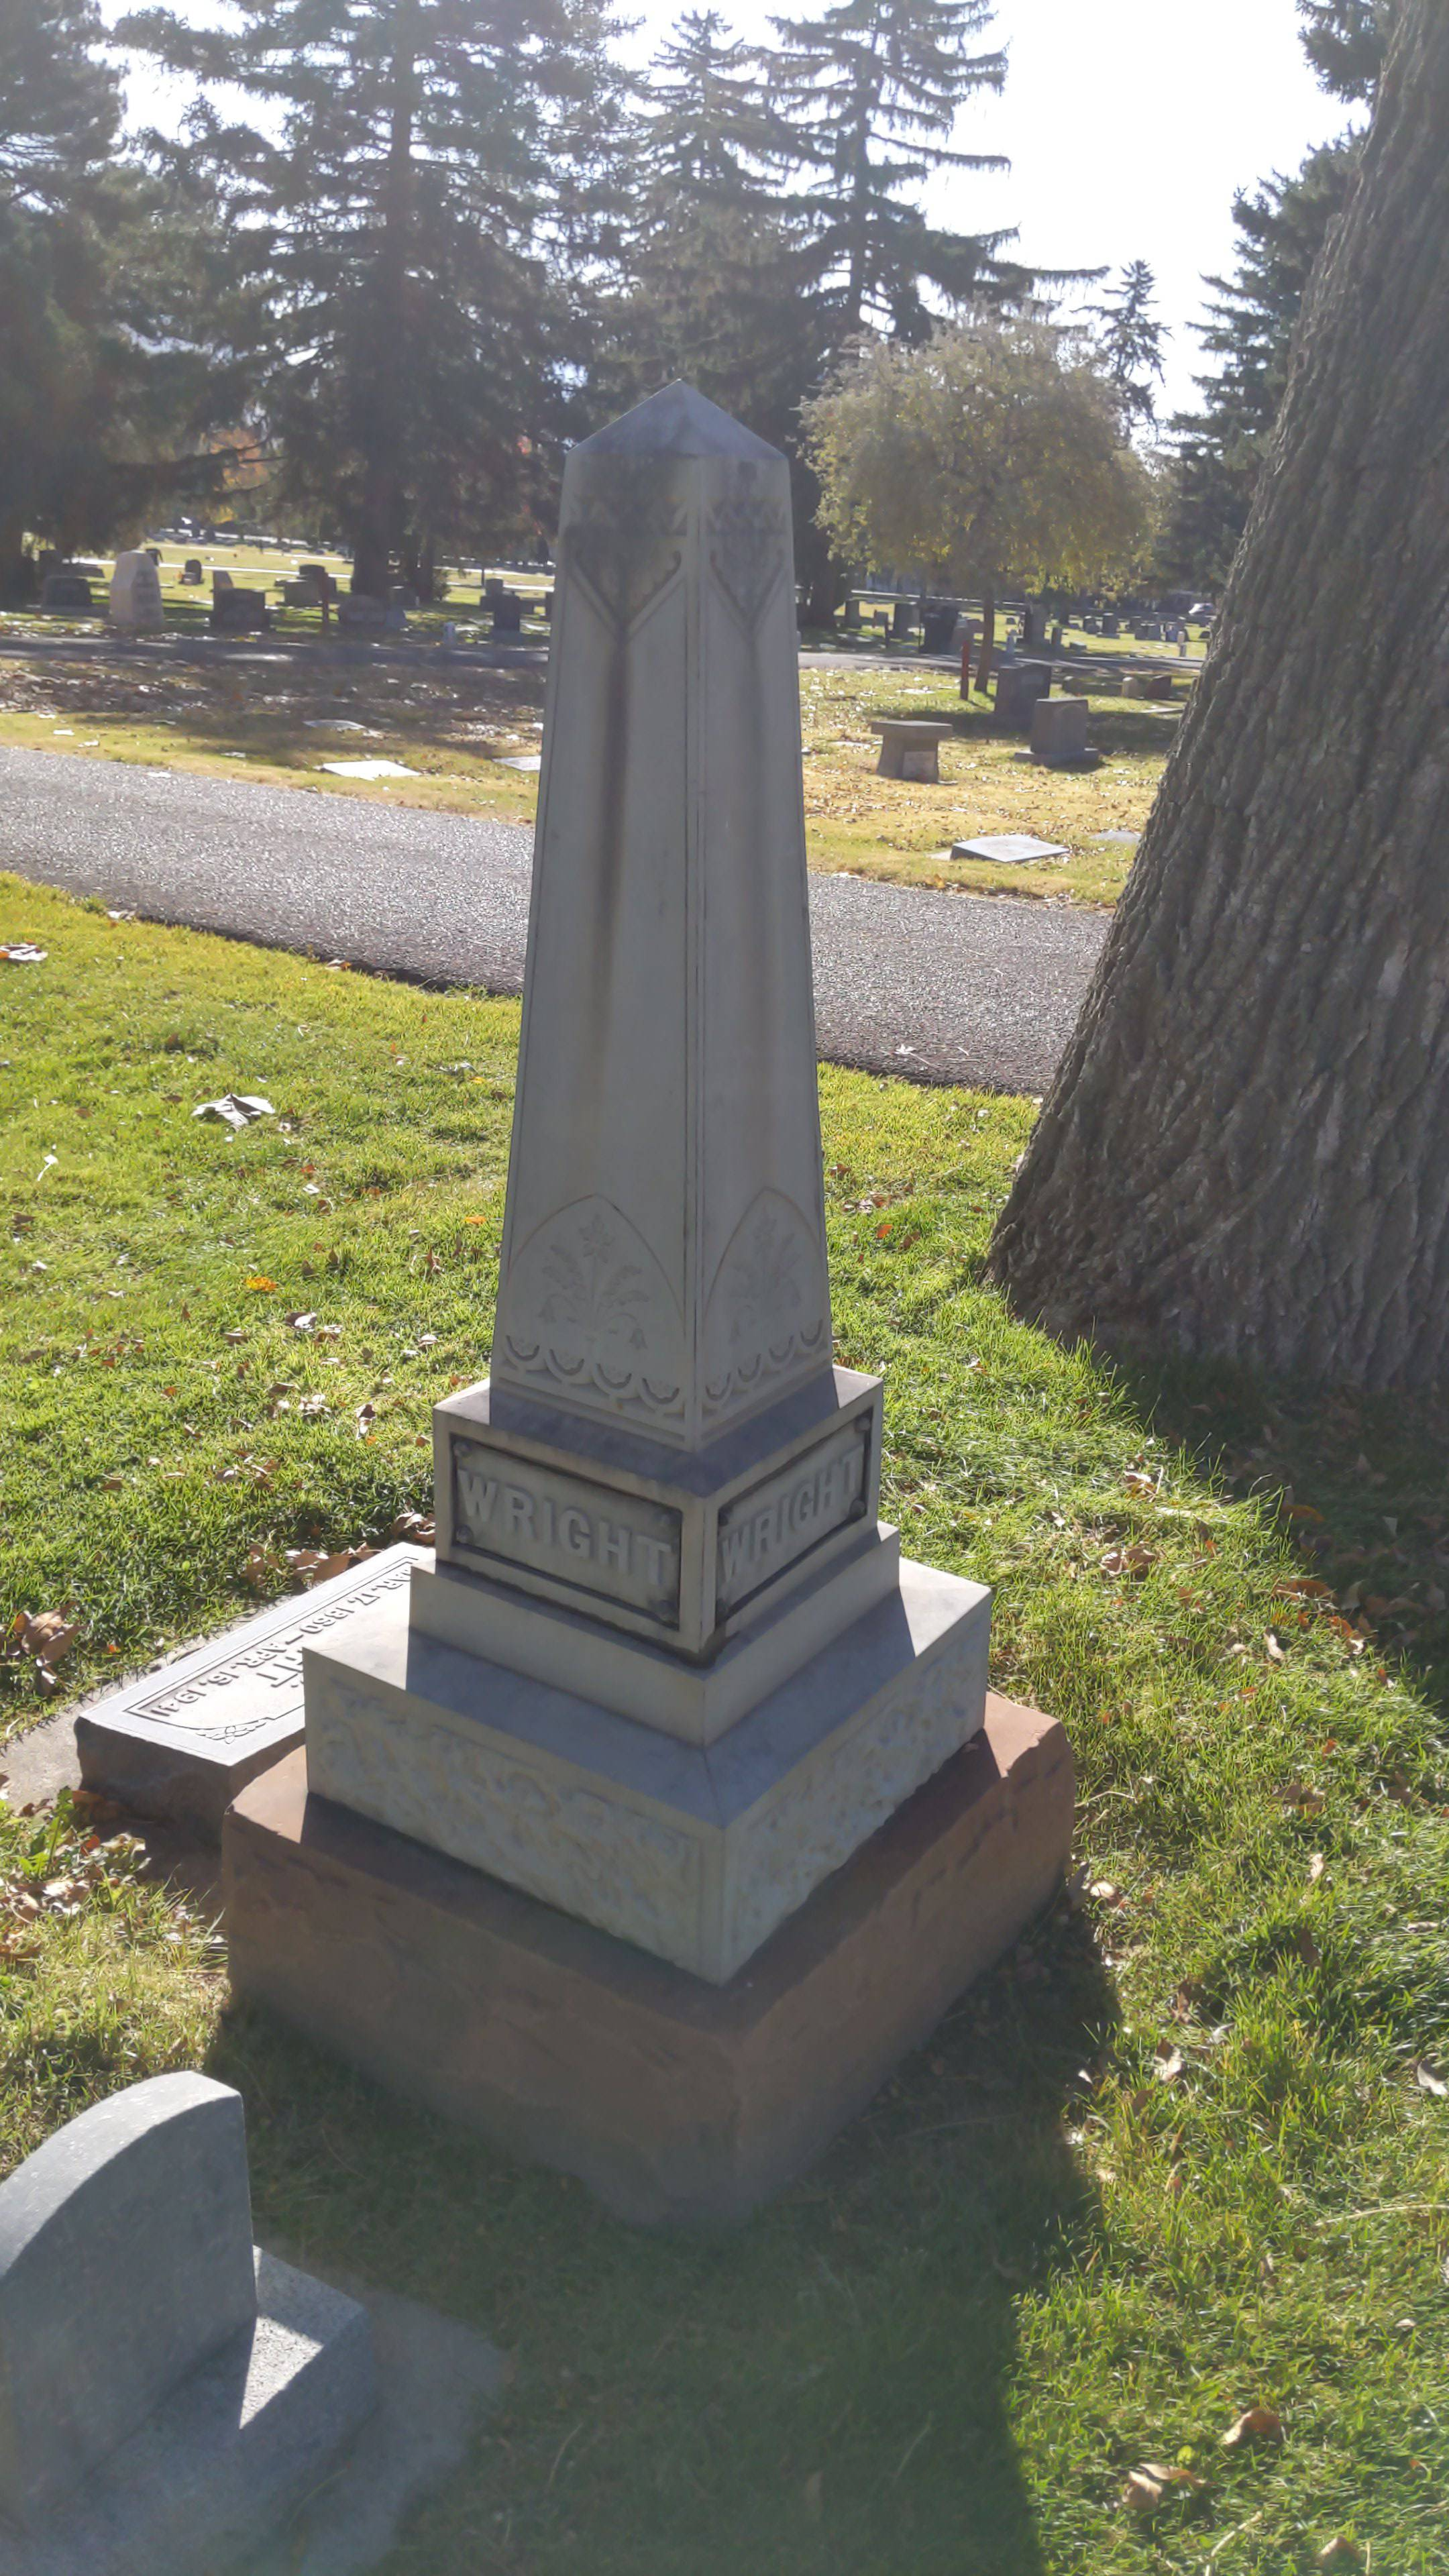obelisk: (414, 384, 899, 1734)
